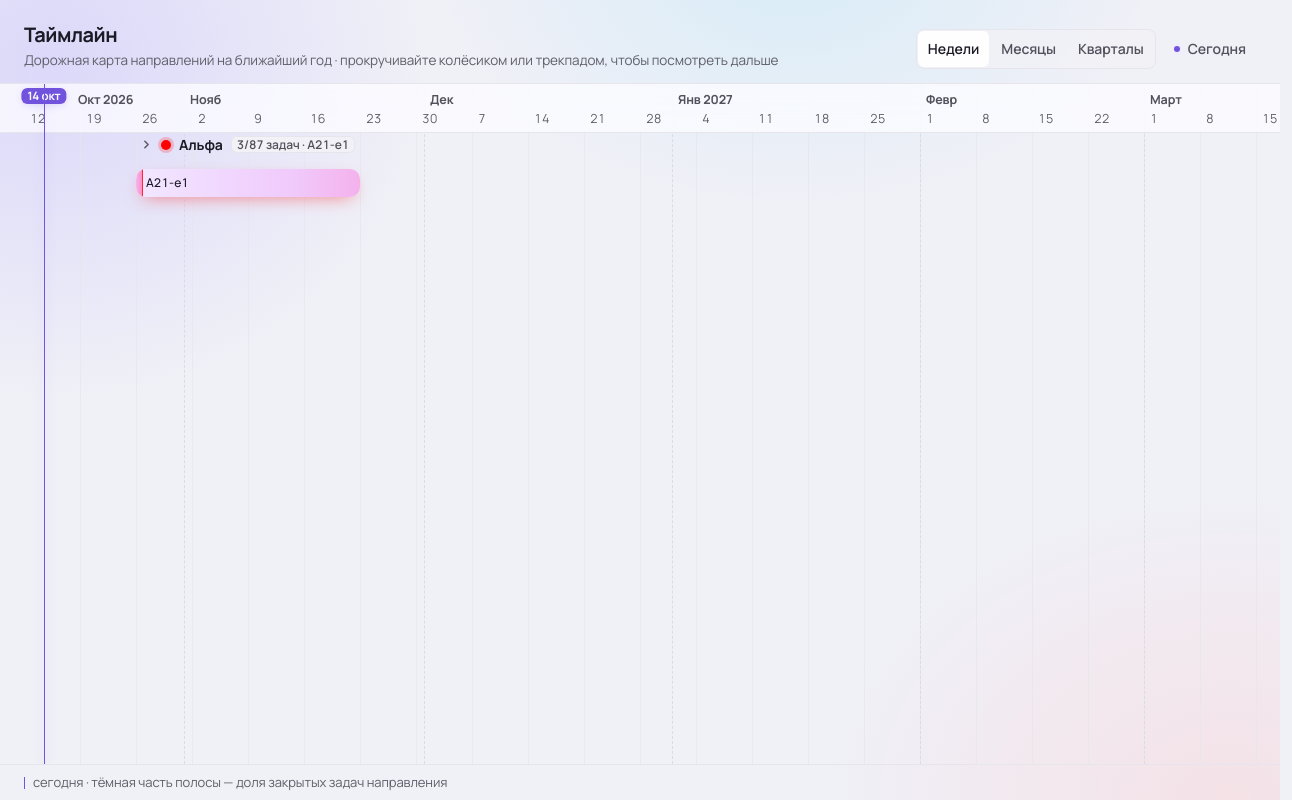
Timeline при частичном сторе › раскрытие узла: постраничный набор ?epicId=; в шапке 87, показано 2 — это ожидаемо, подписано «Показано 2 из 87»
The image size is (1292, 800).
Click the button "Альфа 3/87 задач · A21-e1".
click(250, 145)  # box [136,133,363,157]
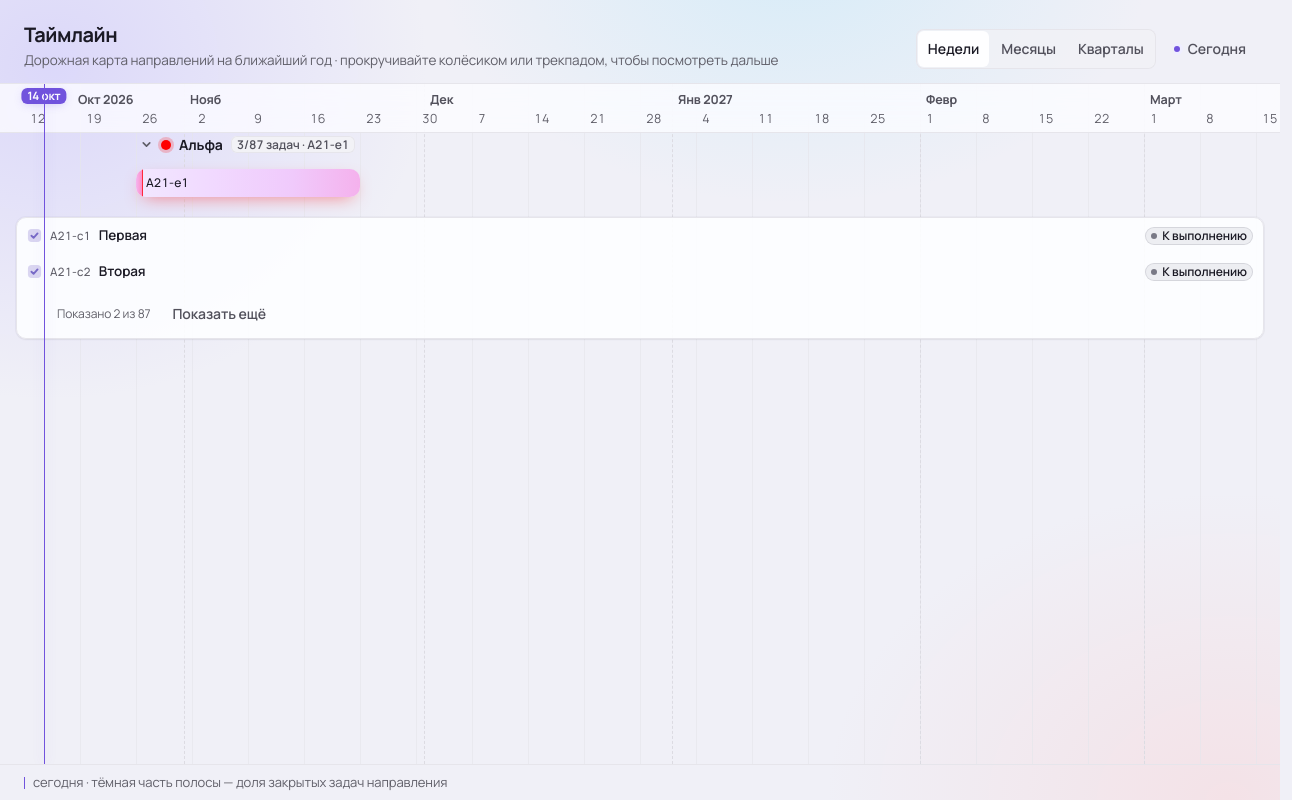
expect the text "Первая" is shown: met, box [99,227,147,244]
expect the text "Вторая" is shown: met, box [99,263,146,280]
expect the text "Показано 2 из 87" is shown: met, box [57,305,150,322]
